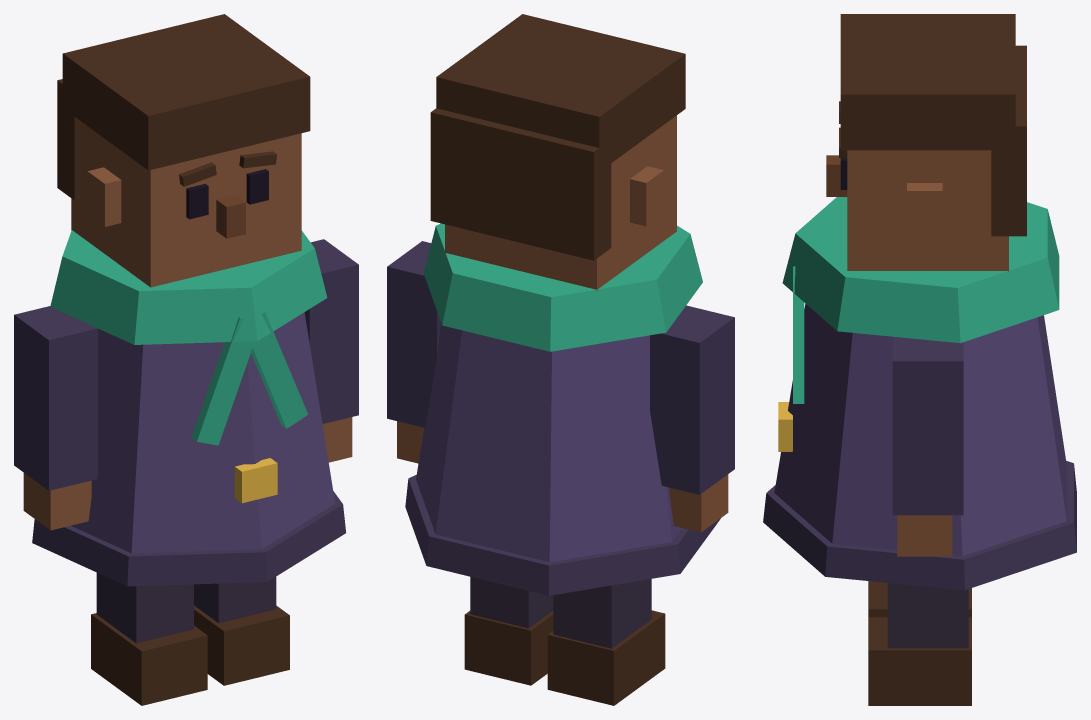
File: taban.obj
3 renders of one model, left to right at view 1: azimuth 30°, elevation 25°; view 2: azimuth 150°, elevation 25°; view 3: azimuth 270°, elevation 25°, orthographic. The views are drawn at different scales.
Parts seen in each view (by area): view 1: govde, sac, kollar, kafa, atki, cizmeler, etek, bacaklar, yaka, eller, kulaklar, toka (+3 smaller); view 2: govde, sac, kollar, atki, cizmeler, kafa, etek, bacaklar, eller, kulaklar; view 3: govde, sac, atki, kafa, kollar, etek, cizmeler, bacaklar, eller, kulaklar, yaka, toka (+1 smaller).
Part boxes in pixels (box(x1,y1,x2,y2)): govde: box(71, 312, 335, 553); sac: box(57, 14, 310, 200); kollar: box(14, 239, 358, 490); kafa: box(71, 121, 301, 287); atki: box(50, 230, 327, 344); cizmeler: box(91, 605, 289, 705); etek: box(32, 491, 346, 586); bacaklar: box(96, 573, 276, 643); yaka: box(191, 311, 308, 445); eller: box(23, 417, 352, 530); kulaklar: box(87, 167, 121, 226); toka: box(234, 458, 277, 503); govde: box(416, 323, 681, 562); sac: box(430, 14, 685, 260); kollar: box(387, 241, 734, 494); atki: box(423, 223, 702, 351); cizmeler: box(464, 610, 665, 705); kafa: box(445, 115, 676, 291); etek: box(405, 475, 720, 595); bacaklar: box(470, 577, 651, 648); eller: box(397, 421, 728, 532); kulaklar: box(630, 166, 663, 226); govde: box(774, 303, 1066, 556); sac: box(840, 14, 1026, 236); atki: box(782, 197, 1059, 343); kafa: box(847, 150, 1008, 271); kollar: box(892, 336, 963, 515); etek: box(763, 460, 1076, 590); cizmeler: box(868, 581, 971, 705); bacaklar: box(887, 583, 968, 648); eller: box(897, 515, 952, 556); kulaklar: box(907, 183, 942, 234); yaka: box(793, 266, 804, 403); toka: box(778, 402, 792, 451).
Size of the model in its own units: 22.6 by 41.9 by 19.39.
